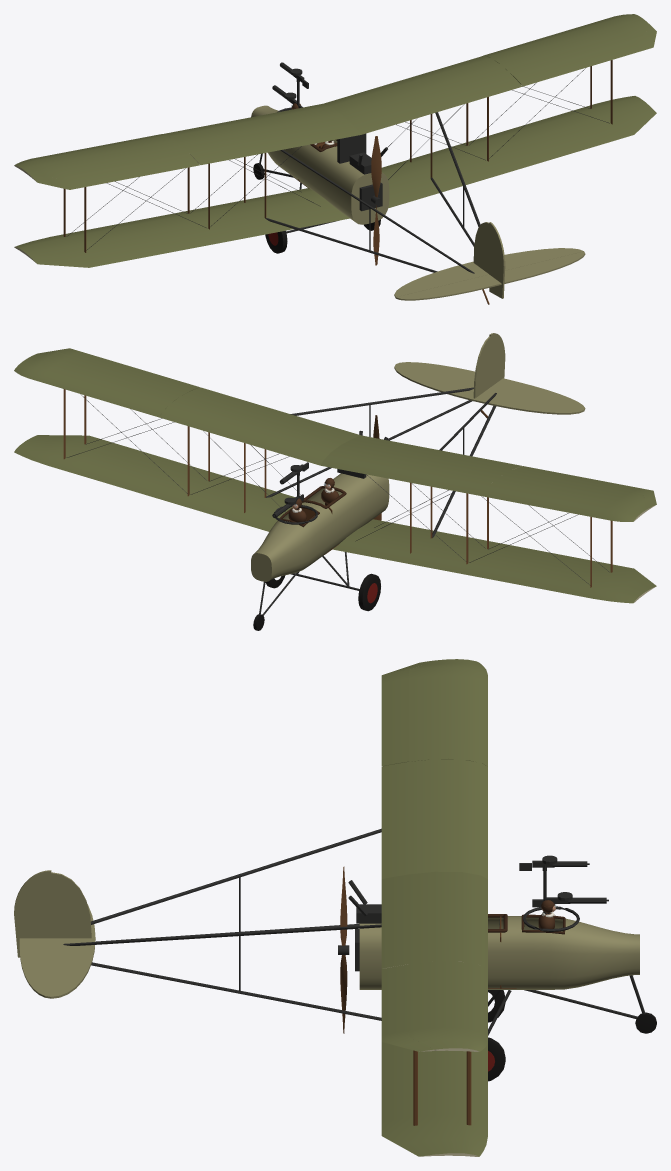
3 views of the same model, one above another, from view 1: azimuth 30°, elevation 25°; view 2: azimuth 150°, elevation 25°; view 3: azimuth 270°, elevation 25° (orthographic). The views are drawn at different scales.
Visible parts, largest first — view 1: Wing_Lower_L, Wing_Upper_R, Wing_Lower_R, Wing_Upper_L, Fuselage, Struts, Aileron_R, Aileron_L, Elevator, Engine, Wires, Stabilizer_L (+5 smaller); view 2: Wing_Upper_R, Wing_Lower_L, Wing_Upper_L, Wing_Lower_R, Fuselage, Struts, Elevator, Wires, Stabilizer_L, Stabilizer_R, Aileron_R, Aileron_L (+4 smaller); view 3: Wing_Upper_L, Wing_Upper_R, Fuselage, Wing_Lower_R, Struts, Aileron_L, Aileron_R, Rudder, Fin, Stabilizer_R, Elevator, Wheels (+3 smaller).
Part boxes in pixels (x1=…): Wing_Lower_L: x1=14, y1=188, x2=349, y2=267; Wing_Upper_R: x1=324, y1=14, x2=650, y2=134; Wing_Lower_R: x1=381, y1=96, x2=656, y2=208; Wing_Upper_L: x1=14, y1=103, x2=361, y2=178; Fuselage: x1=251, y1=105, x2=389, y2=224; Struts: x1=63, y1=60, x2=612, y2=273; Aileron_R: x1=512, y1=25, x2=656, y2=86; Aileron_L: x1=31, y1=153, x2=199, y2=189; Elevator: x1=396, y1=251, x2=585, y2=300; Engine: x1=337, y1=133, x2=387, y2=211; Wires: x1=66, y1=68, x2=609, y2=250; Stabilizer_L: x1=394, y1=261, x2=488, y2=298; Wing_Upper_R: x1=14, y1=352, x2=361, y2=465; Wing_Lower_L: x1=332, y1=519, x2=656, y2=603; Wing_Upper_L: x1=320, y1=435, x2=650, y2=521; Wing_Lower_R: x1=14, y1=435, x2=295, y2=531; Fuselage: x1=251, y1=473, x2=389, y2=581; Struts: x1=63, y1=387, x2=612, y2=587; Elevator: x1=397, y1=362, x2=585, y2=410; Wires: x1=66, y1=394, x2=609, y2=585; Stabilizer_L: x1=473, y1=387, x2=584, y2=414; Stabilizer_R: x1=394, y1=364, x2=473, y2=400; Aileron_R: x1=32, y1=348, x2=199, y2=391; Aileron_L: x1=513, y1=466, x2=656, y2=507; Wing_Upper_L: x1=381, y1=659, x2=487, y2=878; Wing_Upper_R: x1=381, y1=871, x2=487, y2=1051; Fuselage: x1=359, y1=916, x2=639, y2=989; Wing_Lower_R: x1=381, y1=1042, x2=487, y2=1156; Struts: x1=63, y1=828, x2=471, y2=1125; Aileron_L: x1=381, y1=660, x2=433, y2=766; Aileron_R: x1=381, y1=964, x2=434, y2=1051; Rudder: x1=14, y1=870, x2=51, y2=957; Fin: x1=51, y1=872, x2=91, y2=938; Stabilizer_R: x1=51, y1=937, x2=95, y2=998; Elevator: x1=19, y1=938, x2=51, y2=998; Wheels: x1=488, y1=990, x2=656, y2=1081.
Size of the model in its own units: 14.55 by 3.51 by 10.16.
